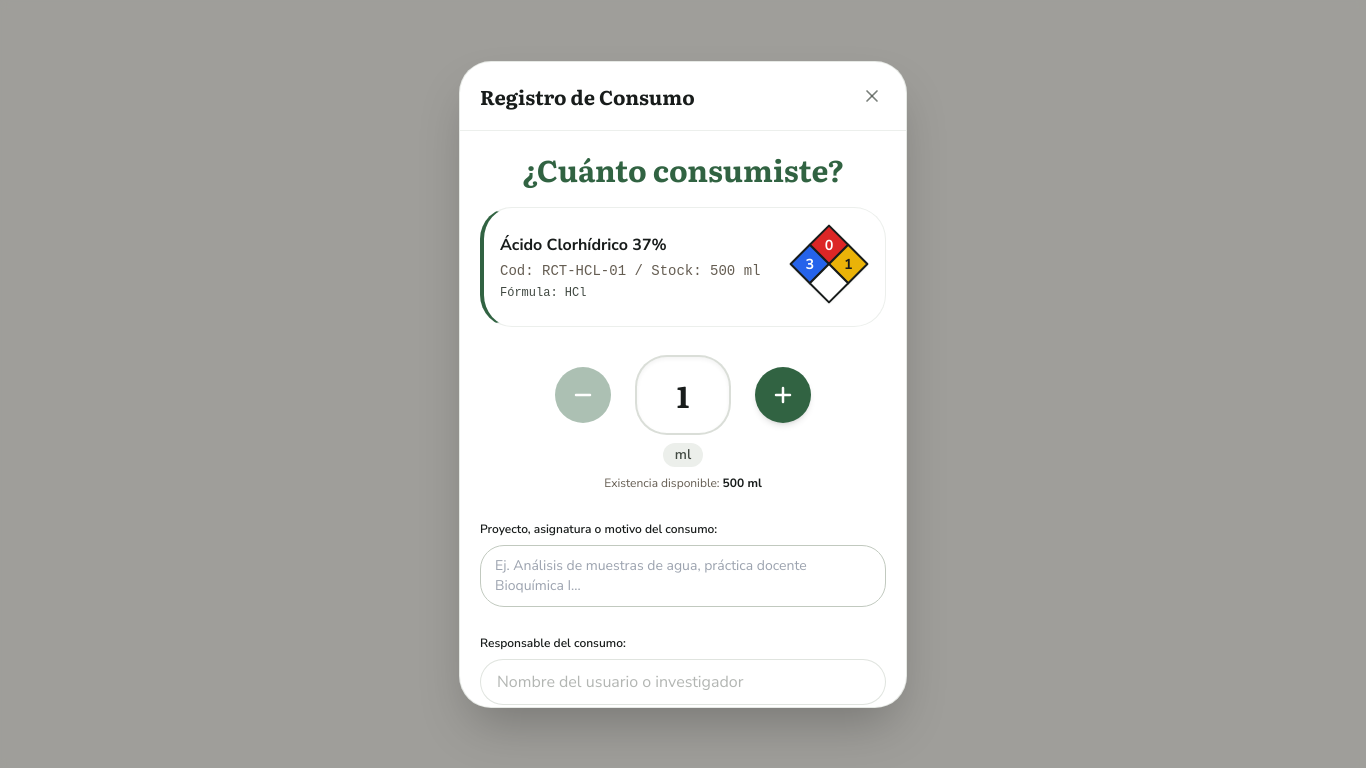
Test: ConsumeModal Component (HU05) › successfully submits consumption when confirming valid amount
// Type motivo
Replace the text in the text box labelled "Proyecto, asignatura o motivo del consumo:" with "Práctica de laboratorio general" at (683, 576), box [480,544,886,606]
(page scrolled)
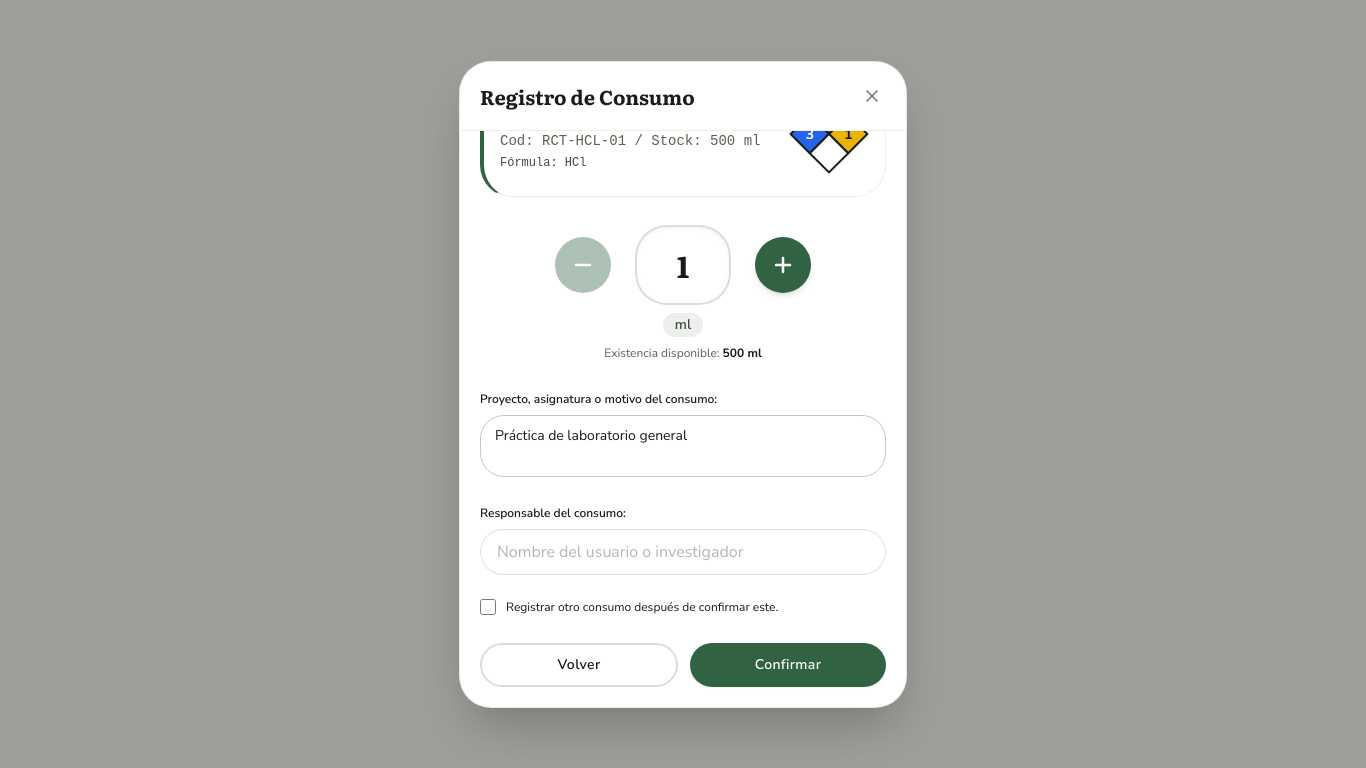
// Click Confirmar
Click the button "Confirmar" at (788, 664), box [690,642,886,686]
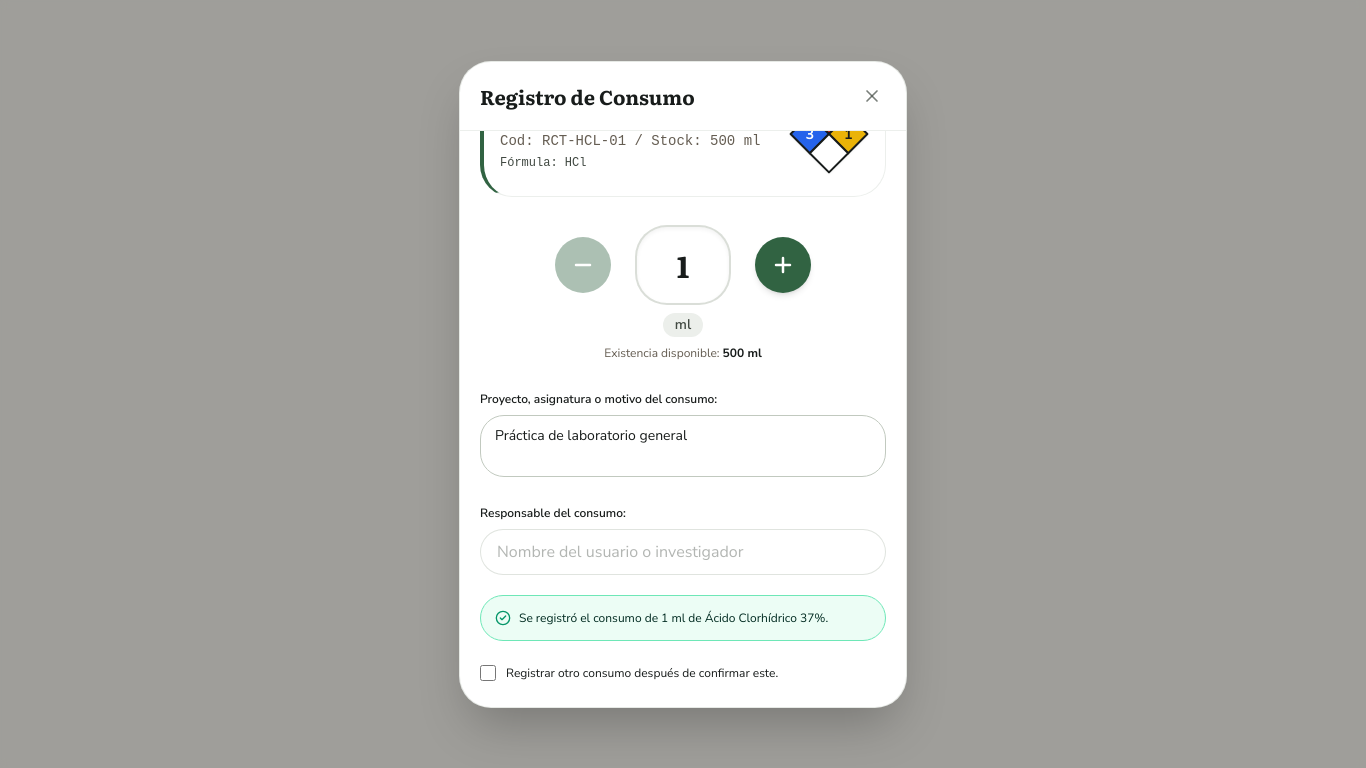
expect the text "Se registró el consumo de 1 ml de Ácido Clorhídrico 37%." is shown: met, box [519,610,828,626]
